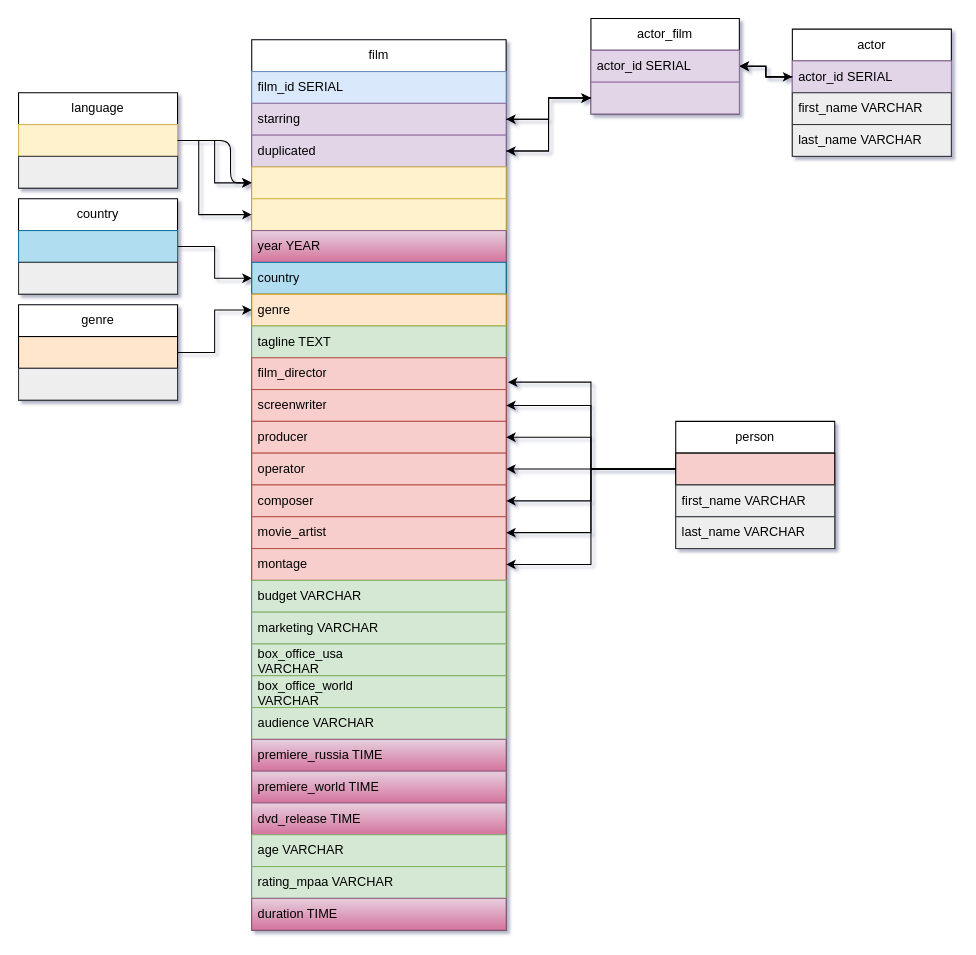
Some shapes in this 976 by 955 pixel diagram are drawn without their labels. The shapes that lost their labels are listed below. From the top down, each one's centre as x and y in pixels, then its label:
At (x=664, y=97): "film_id".
At (x=97, y=139): "lang_id SERIAL".
At (x=97, y=171): "language VARCHAR".
At (x=378, y=182): "subtitles".
At (x=378, y=214): "audio".
At (x=97, y=245): "country_id SERIAL".
At (x=97, y=277): "country VARCHAR".
At (x=97, y=351): "genre_id SERIAL".
At (x=97, y=383): "genre VARCHAR".
At (x=755, y=468): "person_id SERIAL".
